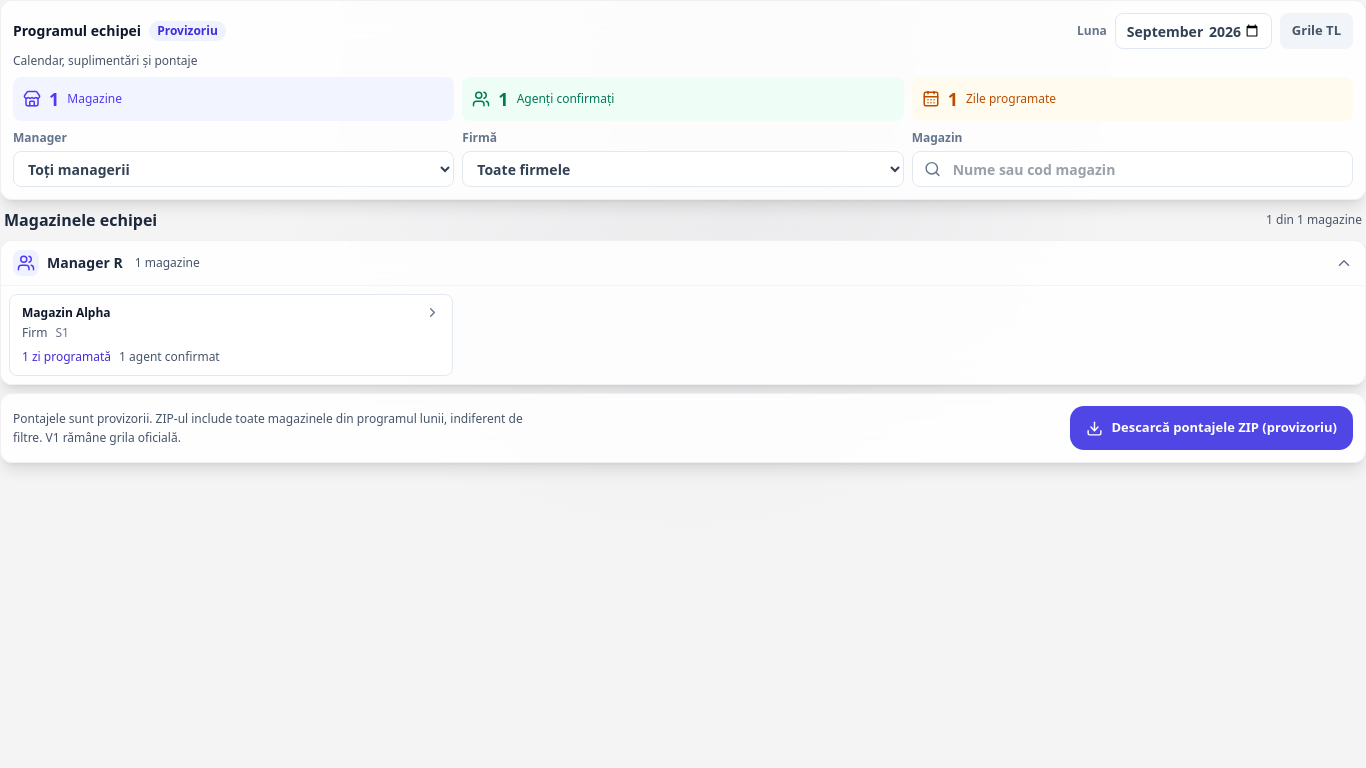
Test: saves monthly store hours with revision and reloads attendance
The width and height of the screenshot is (1366, 768).
Click the button "Magazin Alpha Firm S1 1 zi programată 1 agent confirmat".
click(66, 312)  # box x1=9 y1=294 x2=453 y2=376
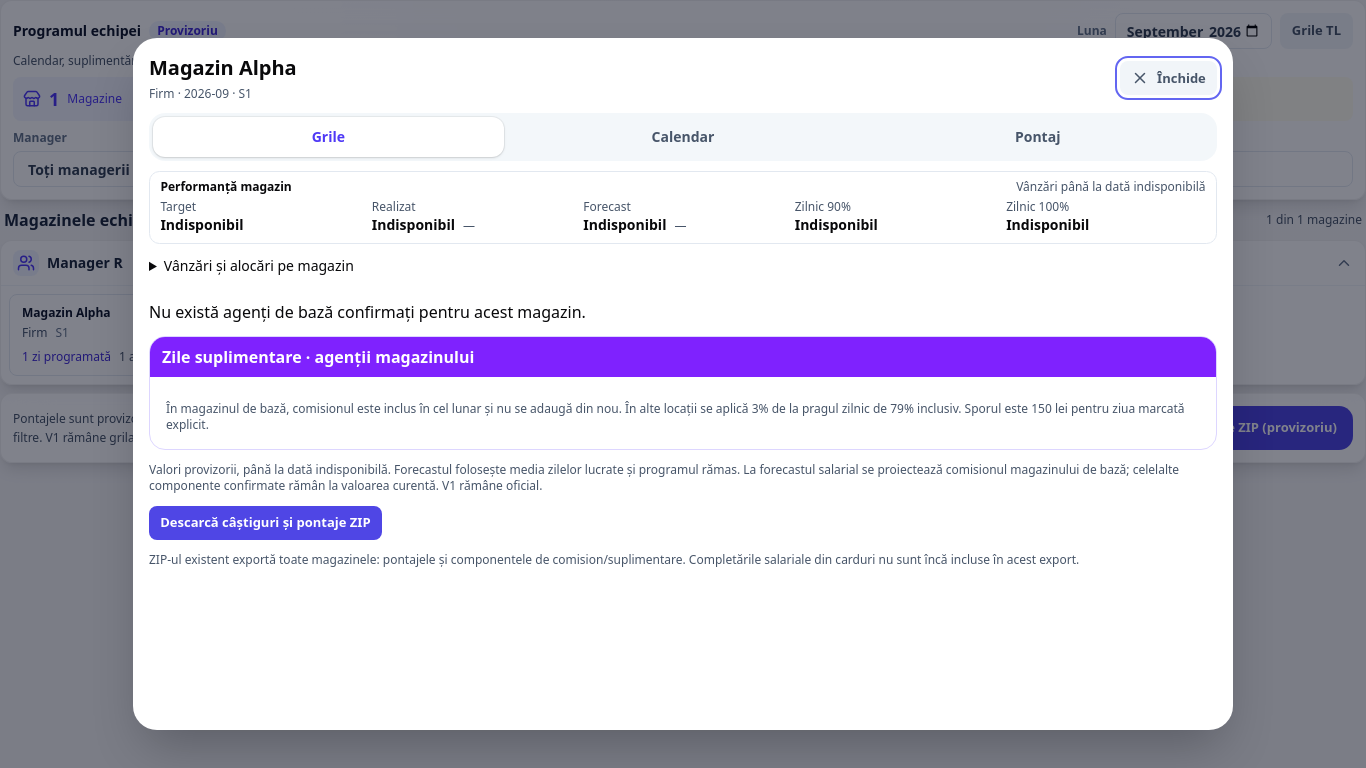
Click the tab "Calendar".
click(683, 137)  # box x1=508 y1=117 x2=858 y2=157
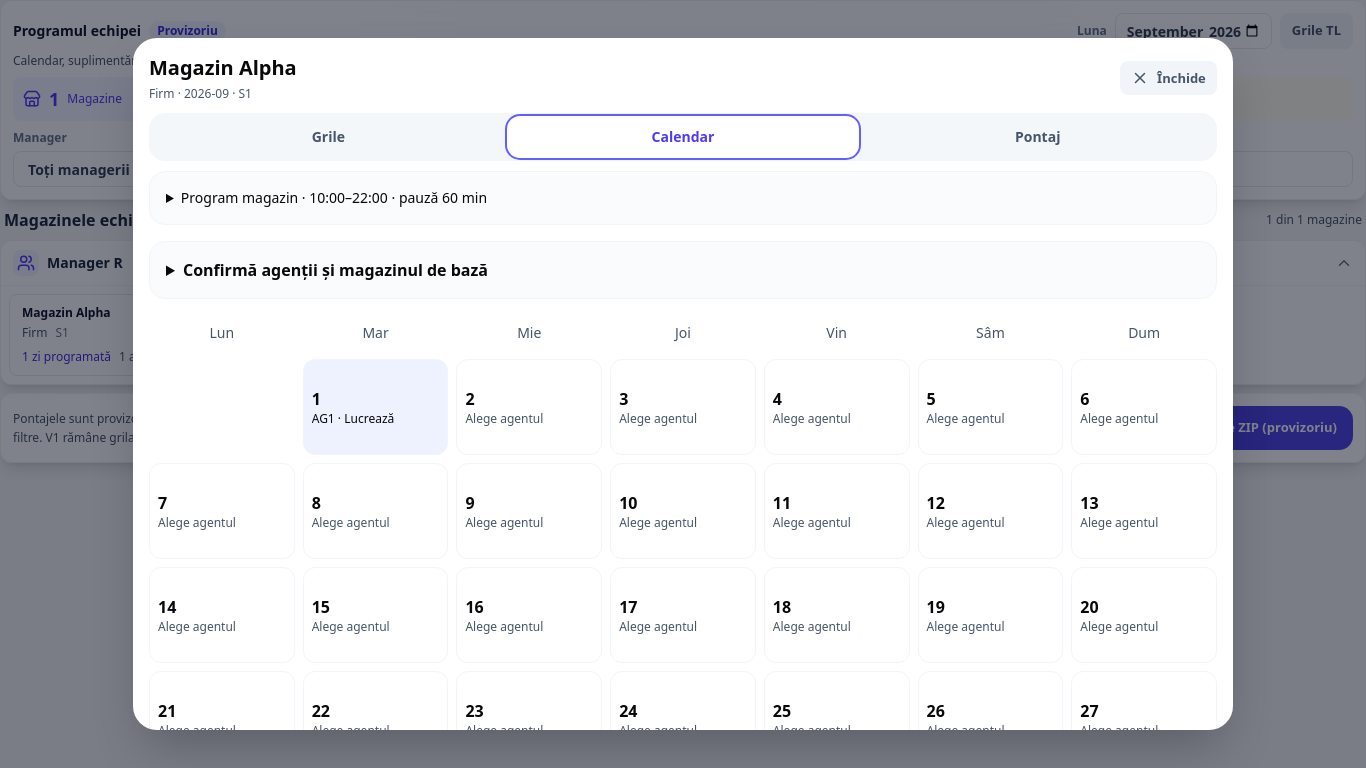
Click the heading "Program magazin · 10:00–22:00 · pauză 60 min".
click(334, 198)  # box x1=181 y1=188 x2=487 y2=207
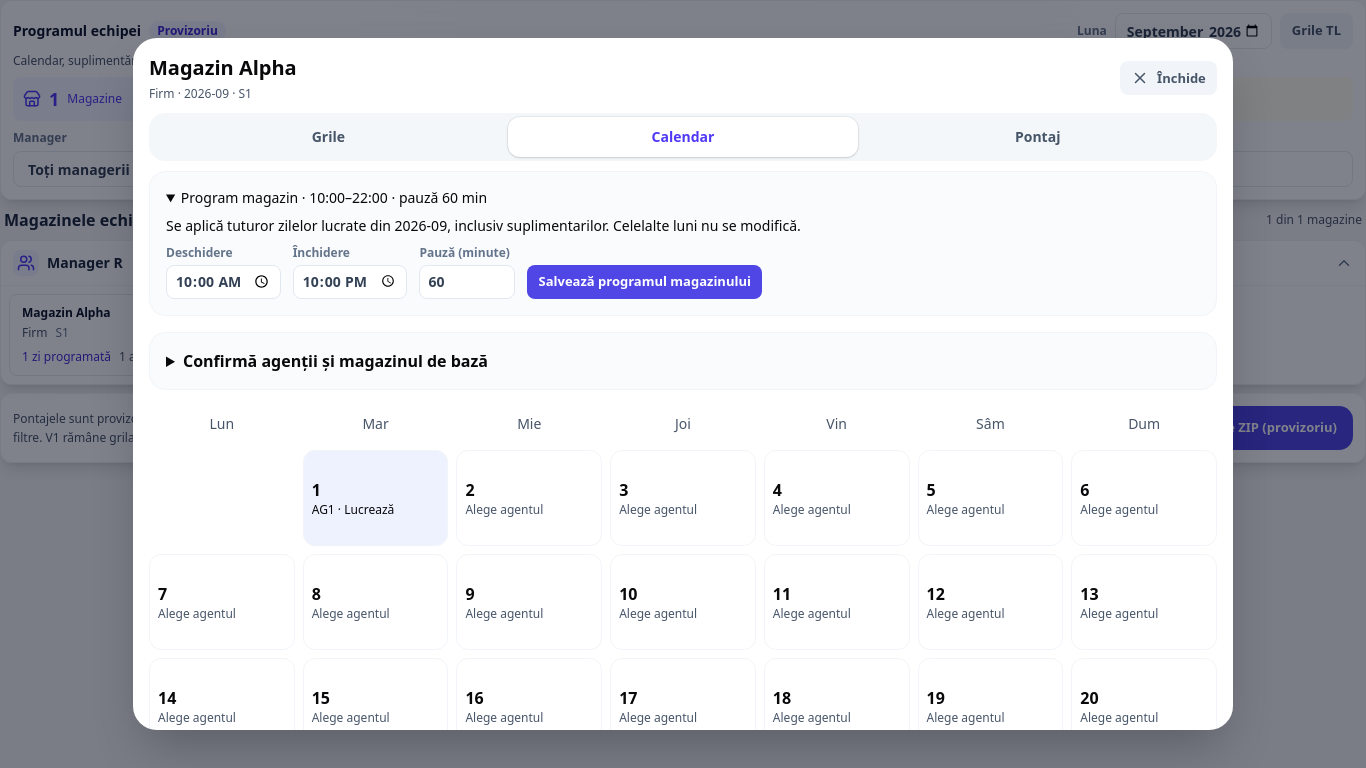
Replace the text in the time field labelled "Deschidere" with "09:00" at coordinates (223, 282), box x1=166 y1=264 x2=281 y2=298
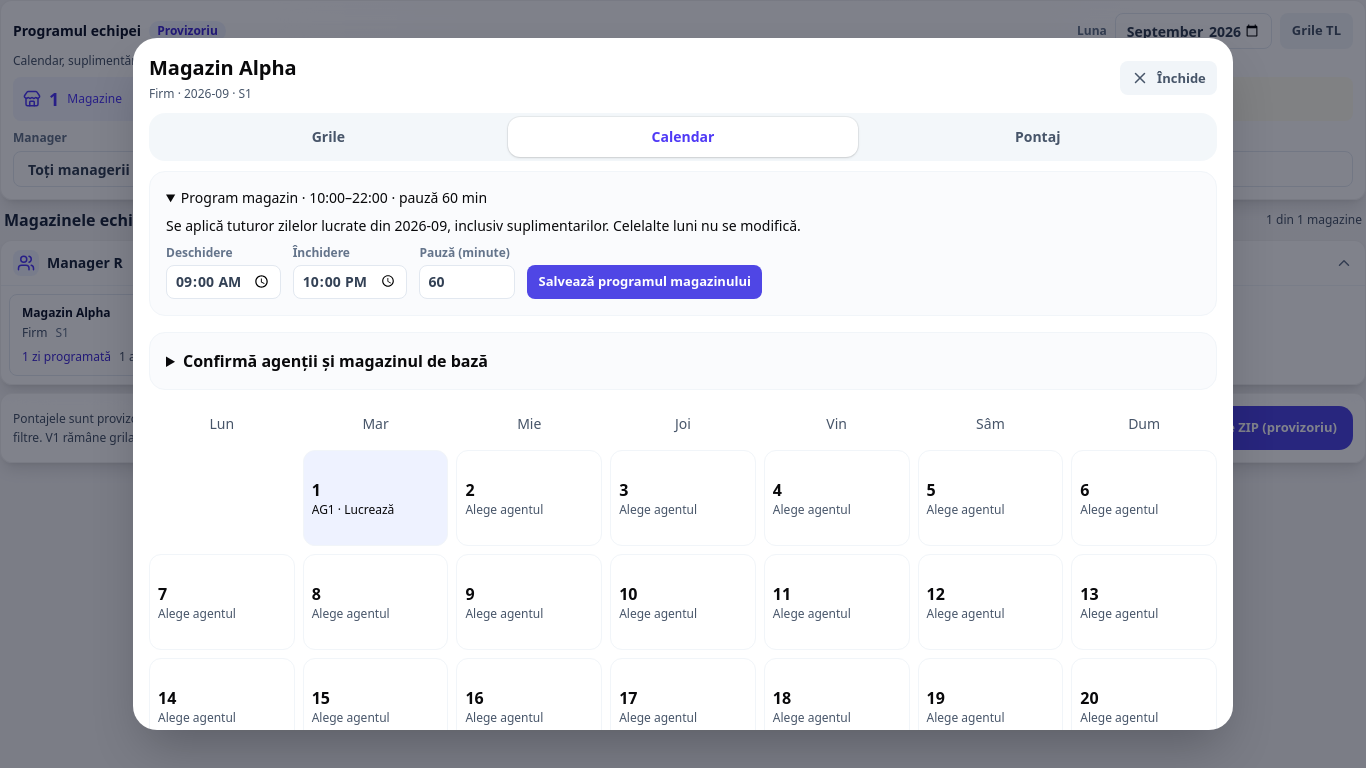
Click the button "Salvează programul magazinului".
click(645, 282)  # box x1=527 y1=264 x2=762 y2=298
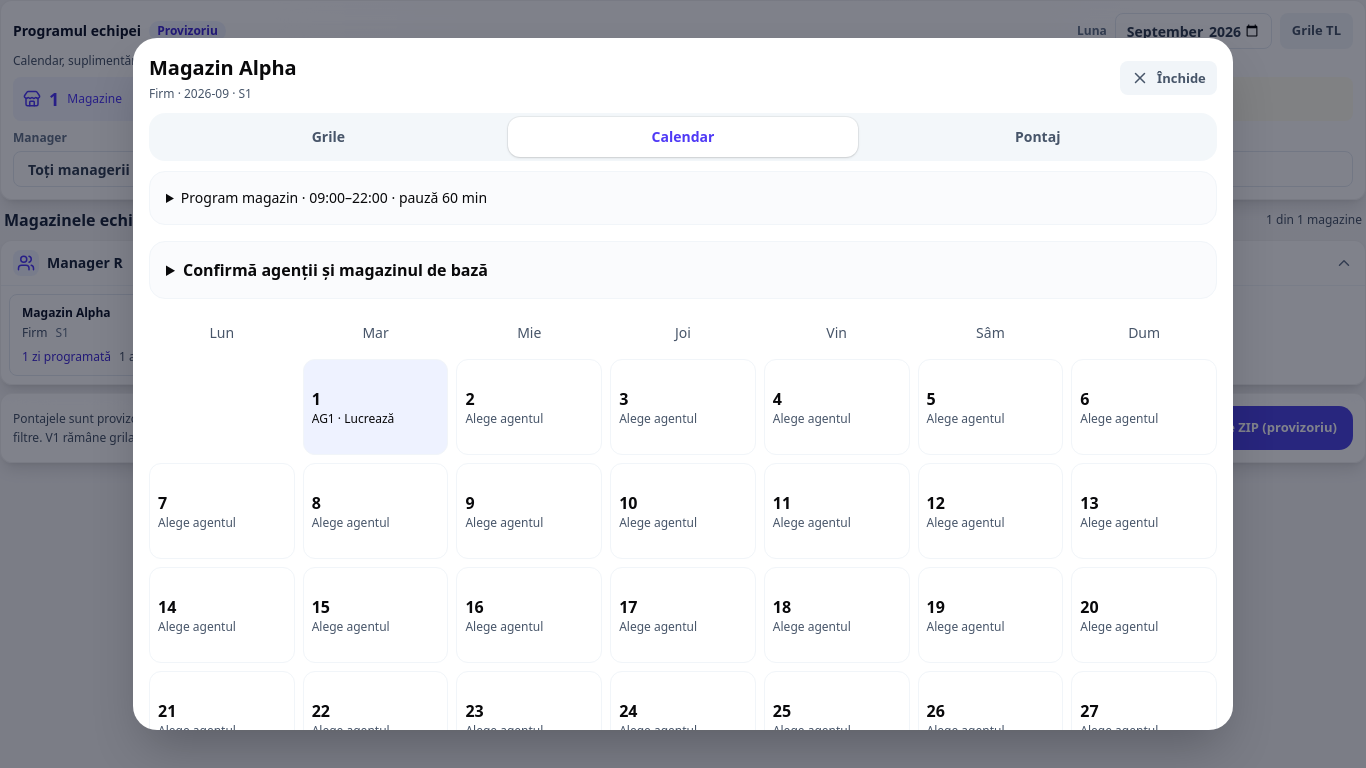
expect the heading "Program magazin · 09:00–22:00 · pauză 60 min" is shown: met, box x1=181 y1=188 x2=487 y2=207
Click the tab "Pontaj".
click(1038, 137)  # box x1=862 y1=117 x2=1213 y2=157
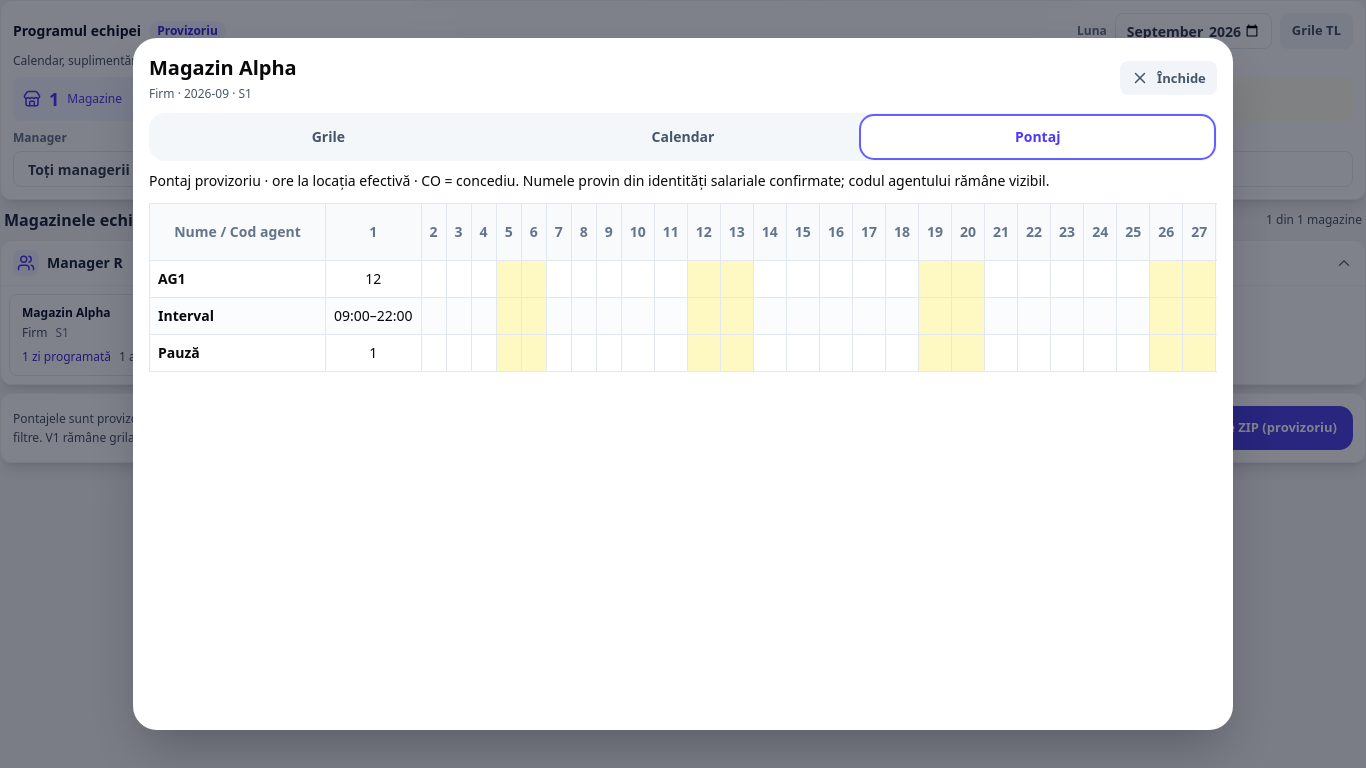
expect the table shows "09:00–22:00": met, box x1=334 y1=306 x2=413 y2=325
expect the table shows "12": met, box x1=696 y1=222 x2=712 y2=241
